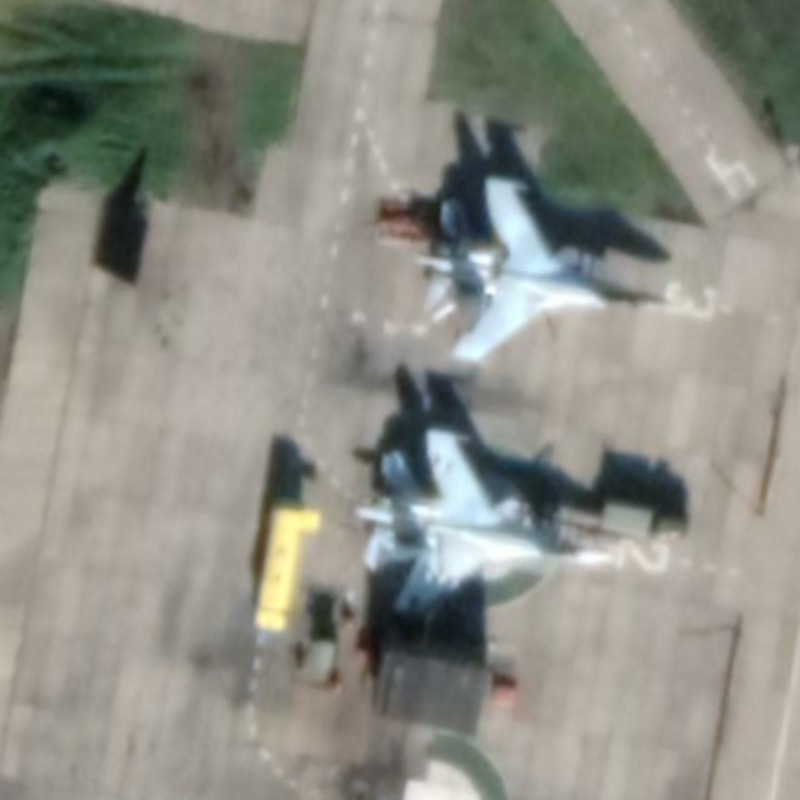A1: (351, 422, 621, 617), (414, 172, 678, 368)
